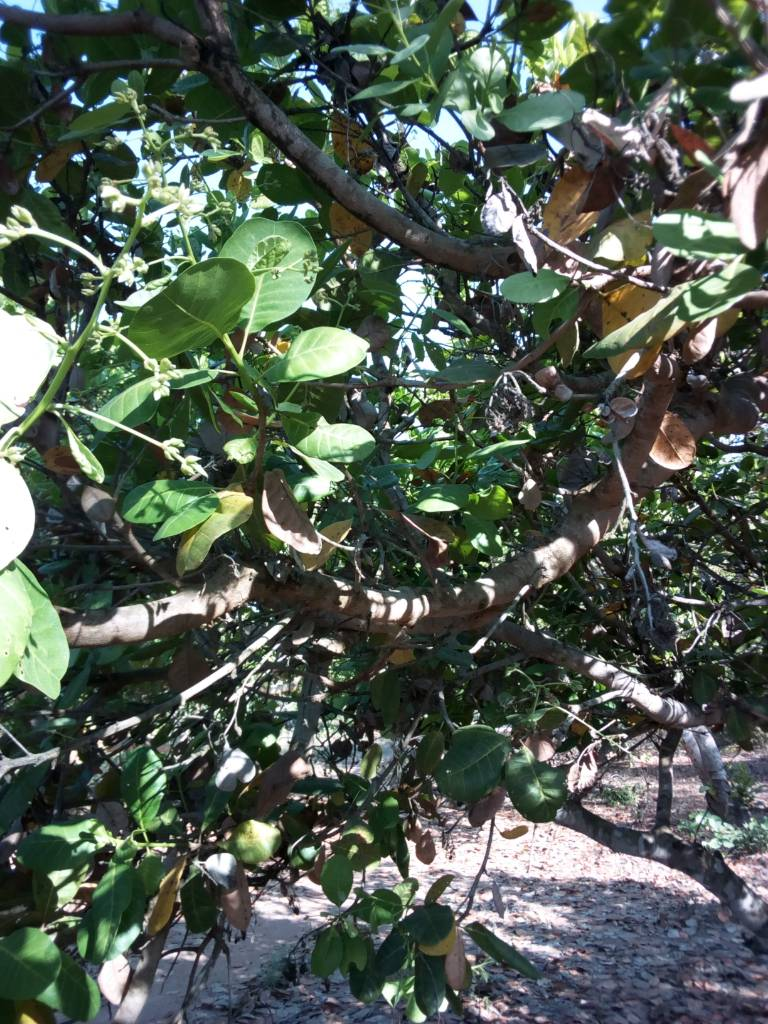Anthracnose: (602, 280, 665, 380), (261, 469, 325, 553)
